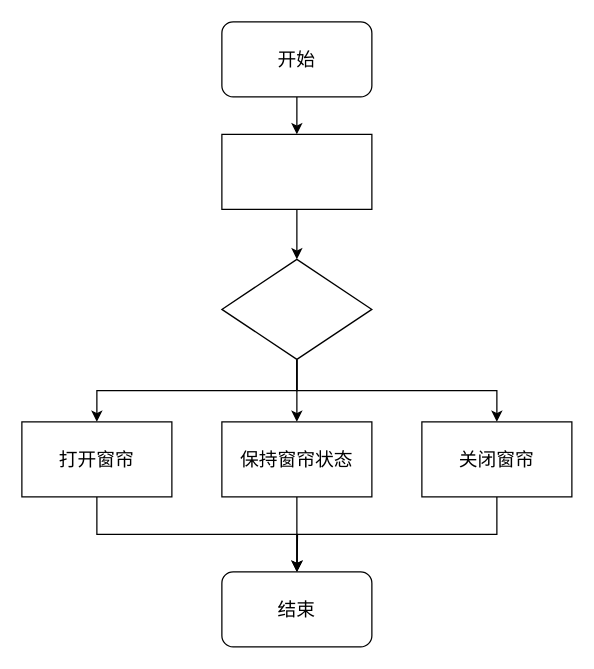
The diagram is 594 pixels wide and 669 high, and some of its shapes have lost their labels. Each missing label, with the centre of its shape:
分析指令: the point at 296,308
初始化: the point at 296,171
